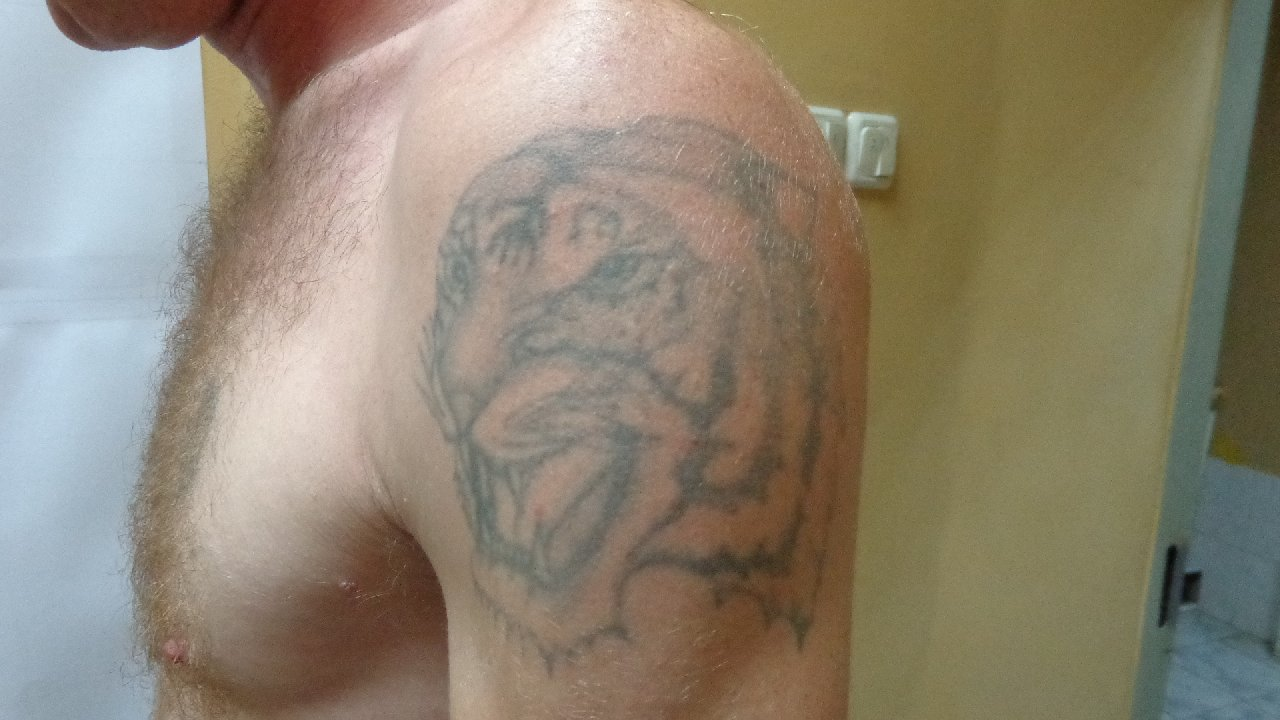tatu5_tigr: (417, 113, 833, 619)
